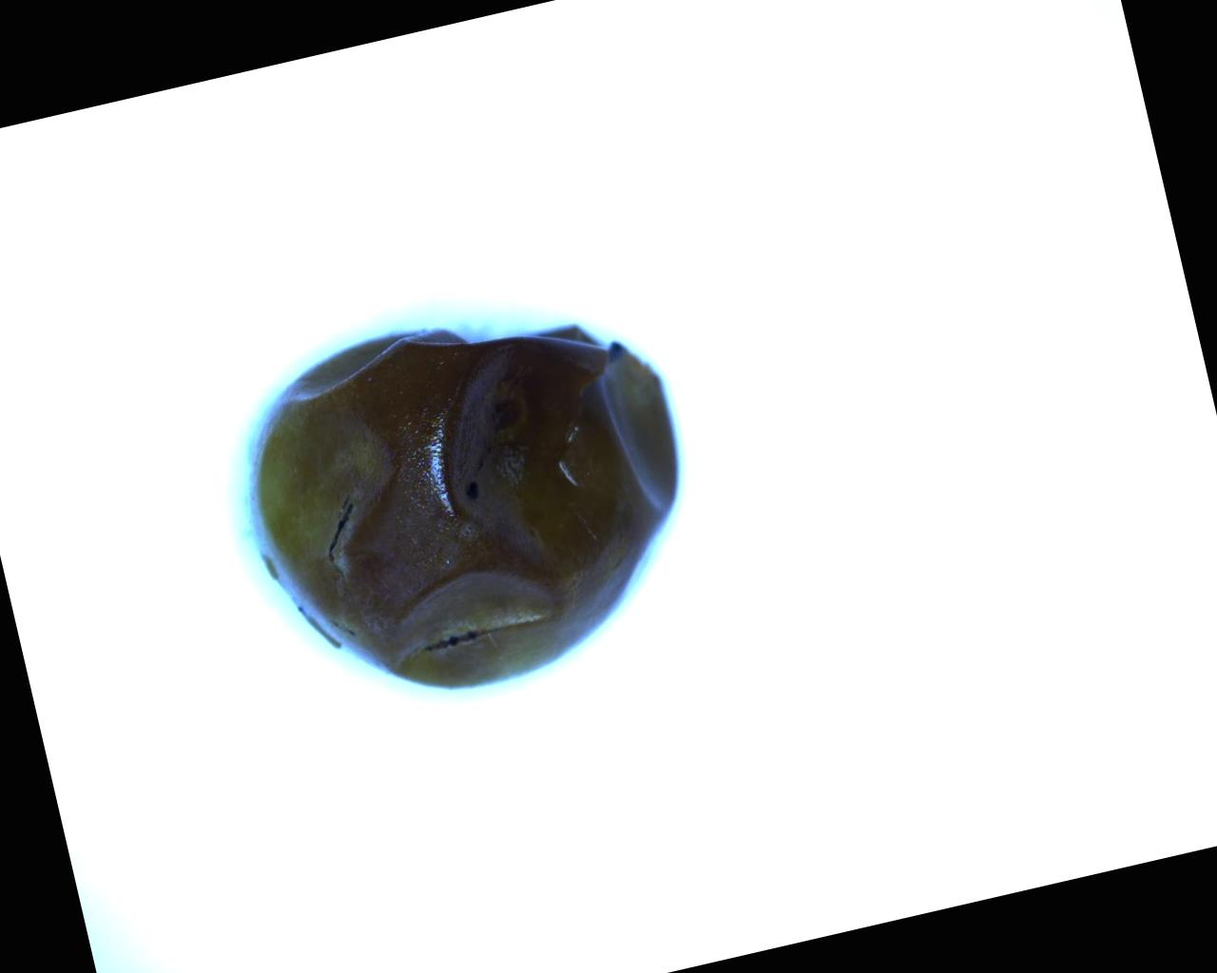Grape Rotten: (213, 272, 723, 729)
